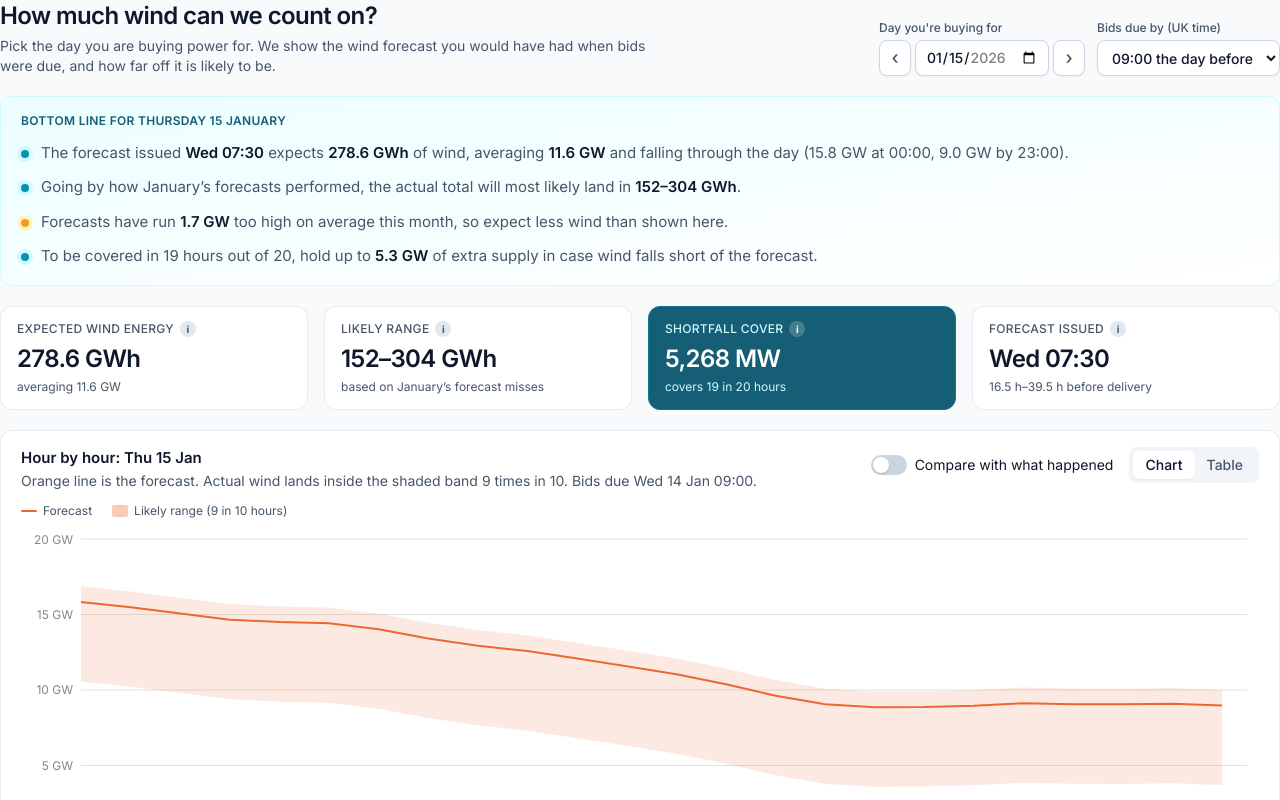
Test: DayAheadPage › shows hindsight metrics only when comparing with what happened
This screenshot has width=1280, height=800.
Expected: the text "How the forecast did on this day" is not shown
Click the switch named "compare": (889, 464) [871,454,907,474]
(page scrolled)
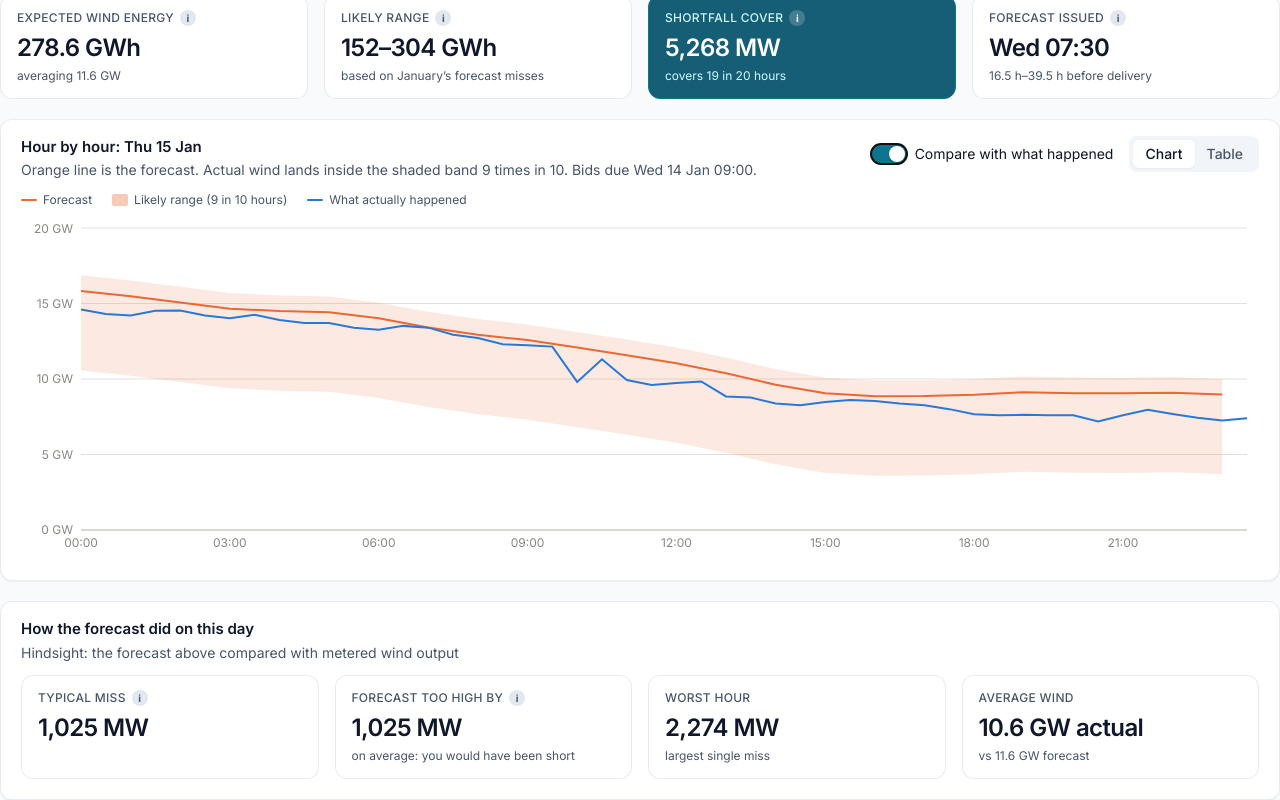
Result: the heading "How the forecast did on this day" is shown at [21,619,254,638]
